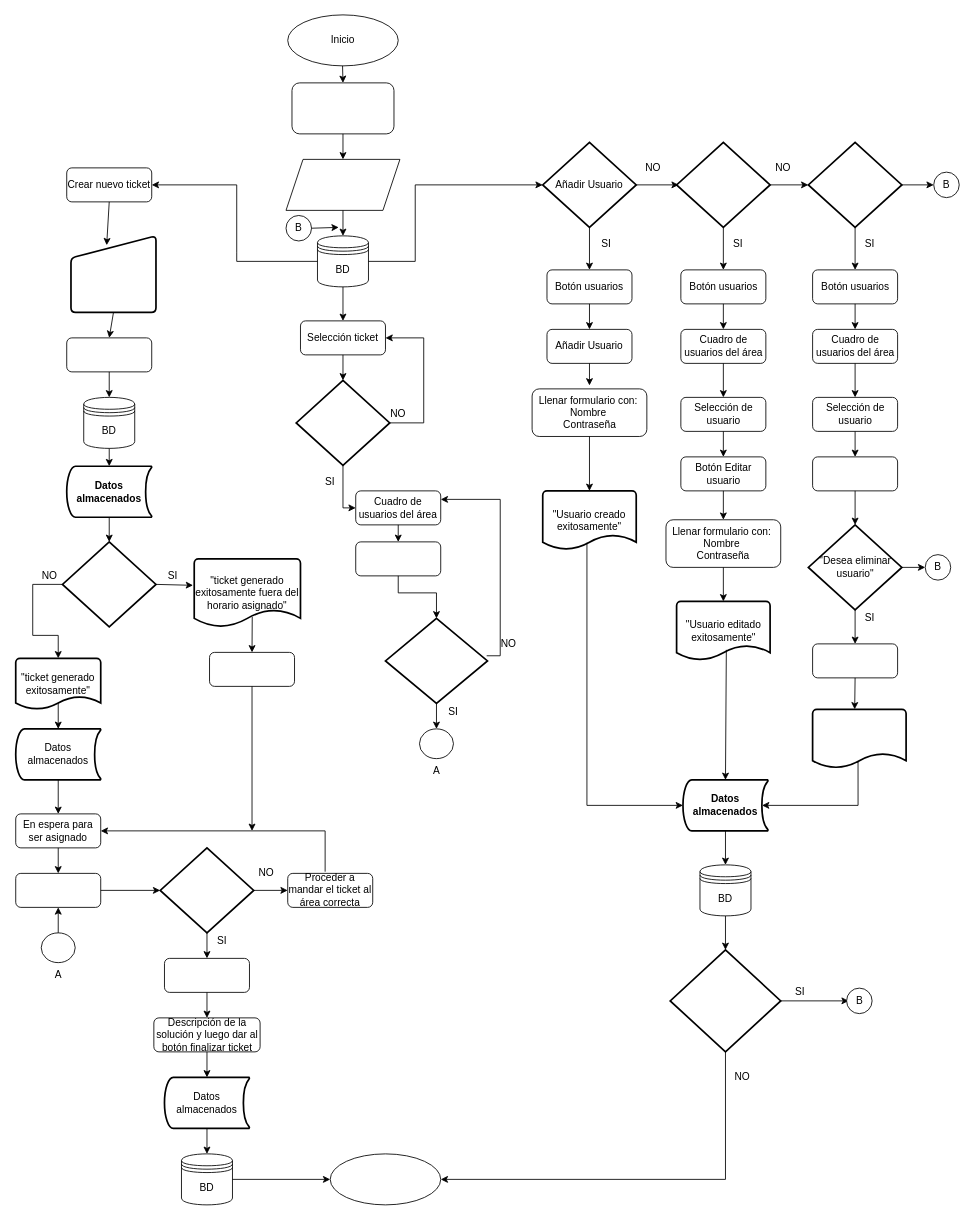
Some shapes in this 974 by 1220 pixel diagram are drawn without their labels. Each missing label, with the box of its shape:
"Desea realizar otra acción": (669, 949, 781, 1052)
"Usuario Eliminado": (811, 708, 907, 768)
Botón eliminar: (812, 643, 898, 678)
Botón eliminar Usuario: (812, 456, 898, 491)
Editar usuario: (675, 141, 771, 228)
Eliminar usuario: (807, 141, 902, 228)
entrar a la web: (291, 82, 394, 134)
Fin: (329, 1153, 441, 1205)
Generar ticket: (66, 337, 152, 372)
Horario >5:30 pm: (61, 541, 156, 627)
ingresar usuario y contraseña: (285, 159, 400, 210)
Nombre, sucursal, Área o catalogo y descripción: (70, 235, 156, 313)
Proceder a la solución: (164, 958, 249, 992)
Se asigna al siguiente día: (209, 652, 295, 686)
Se asigna o auto asigna: (15, 873, 101, 907)
Seleccionar usuario: (355, 541, 441, 576)
Ticket disponible: (295, 379, 390, 466)
Usuario disponible: (384, 617, 488, 704)
área correcta: (159, 847, 254, 933)
